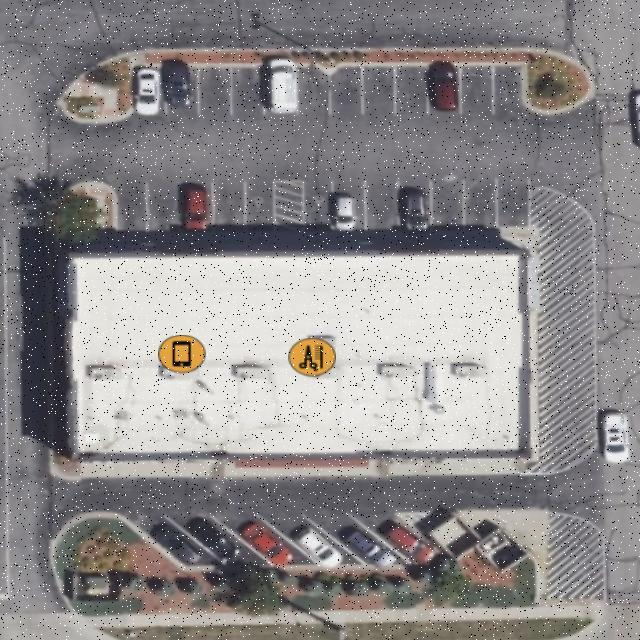Empty: (296, 65, 330, 115), (395, 65, 429, 115), (361, 66, 395, 114), (232, 67, 264, 116), (197, 69, 231, 115), (147, 185, 181, 231), (330, 66, 362, 114), (366, 182, 398, 230), (302, 182, 334, 230), (430, 182, 464, 226), (115, 183, 146, 231), (461, 68, 493, 114), (496, 181, 528, 227), (494, 66, 524, 114), (464, 182, 496, 226), (244, 183, 276, 227), (213, 182, 244, 225)
Parked: (304, 515, 420, 569), (260, 515, 369, 569), (167, 516, 274, 569), (214, 515, 321, 568), (124, 516, 227, 569), (350, 515, 451, 569), (133, 66, 167, 114), (332, 183, 366, 229), (267, 64, 297, 116), (428, 66, 460, 114), (182, 183, 214, 230), (167, 66, 197, 114), (398, 184, 430, 228)
